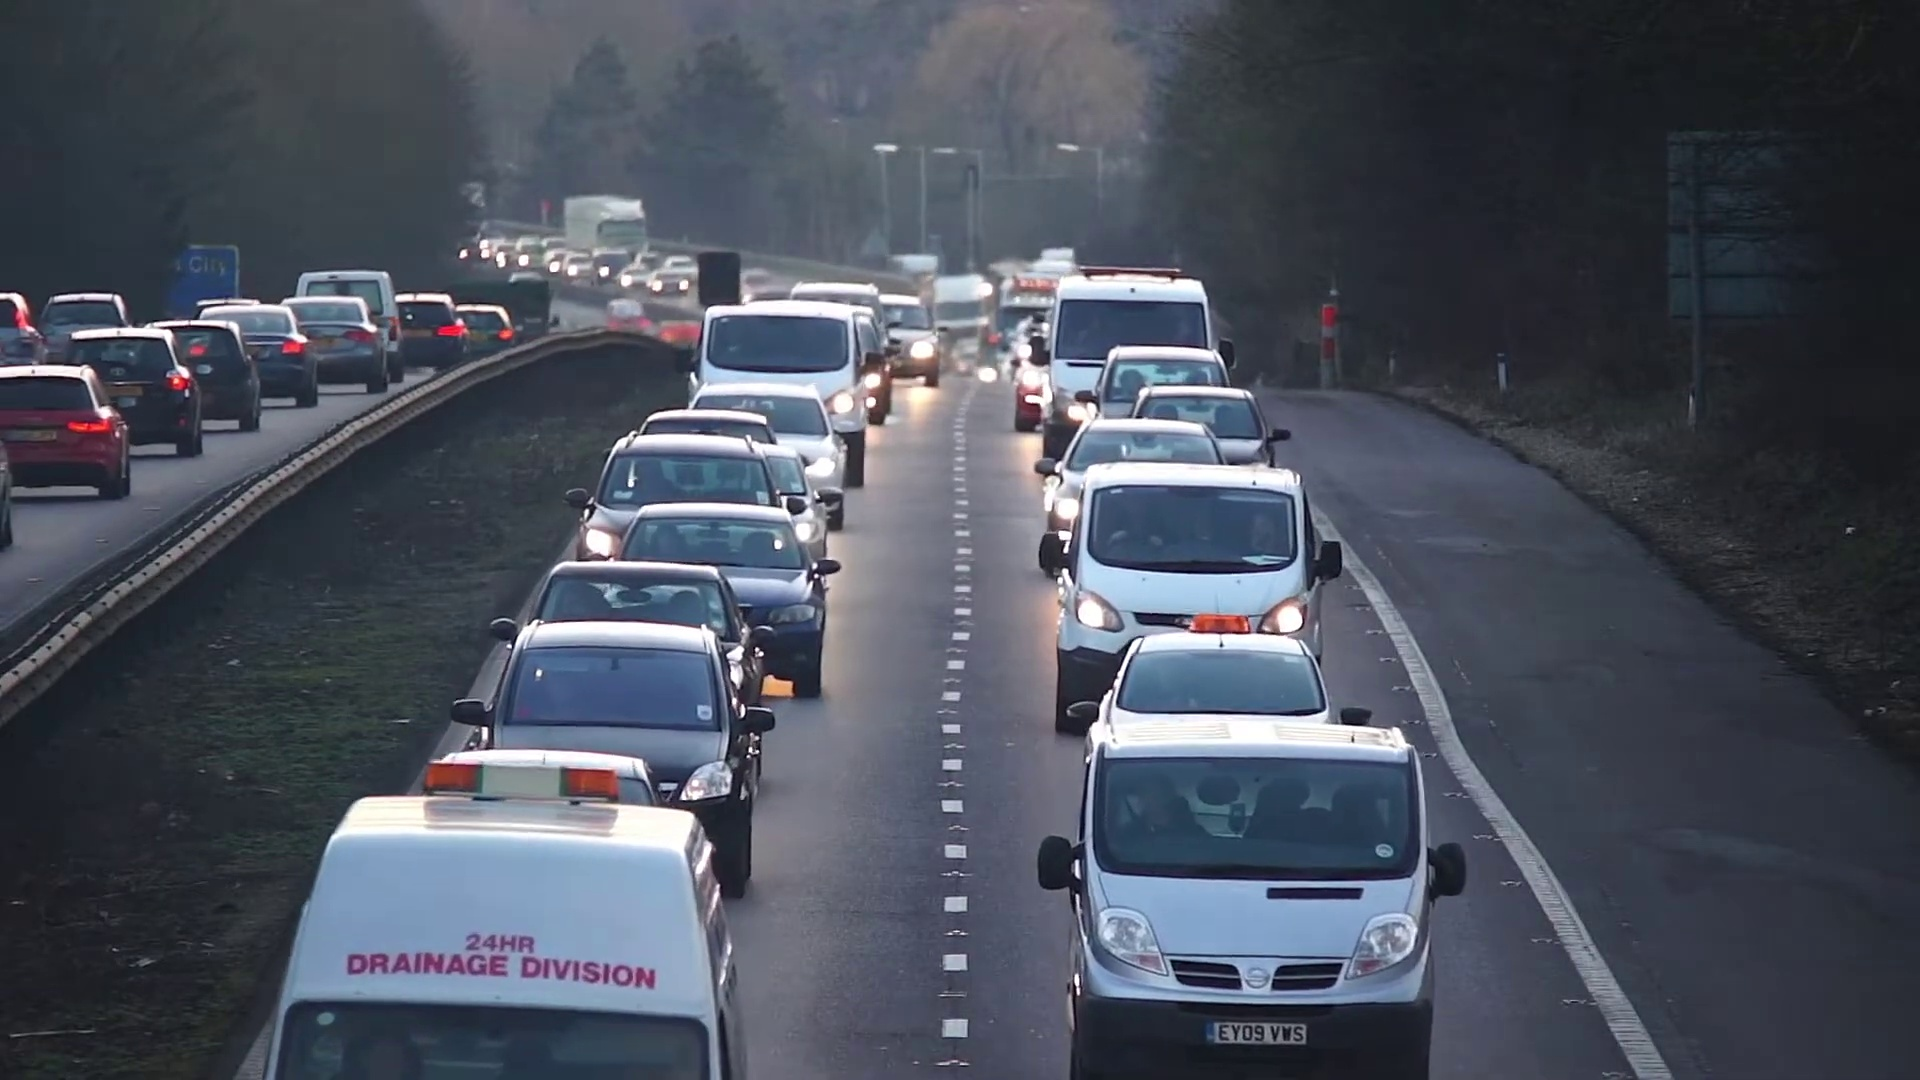license_plate: (1208, 1016, 1309, 1052)
